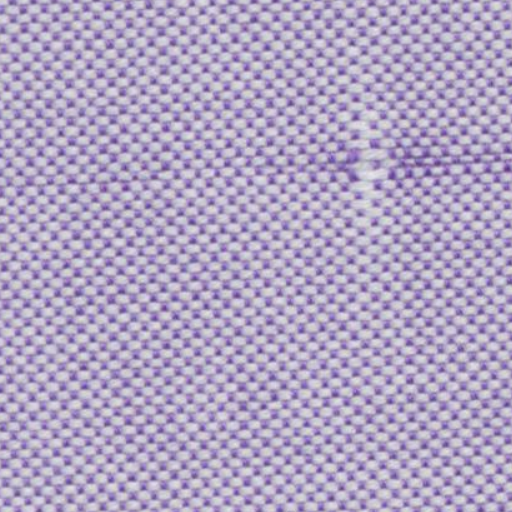DaiSha: (320, 83, 424, 250)
